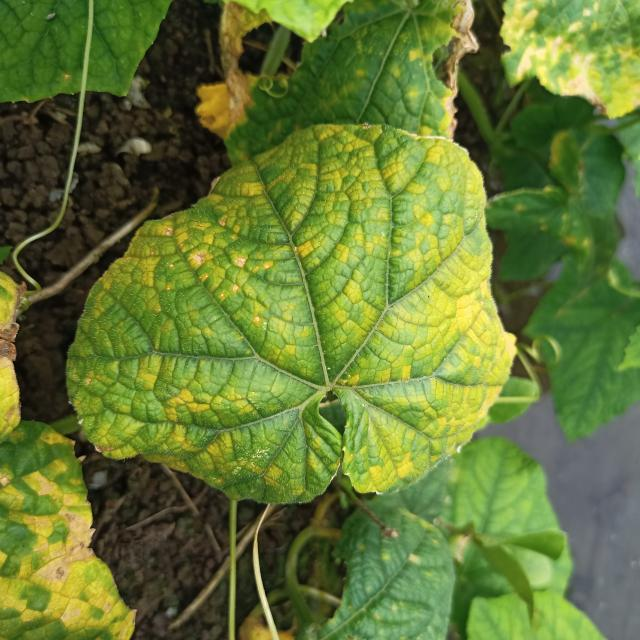disease_cucumber: (77, 130, 508, 496)
